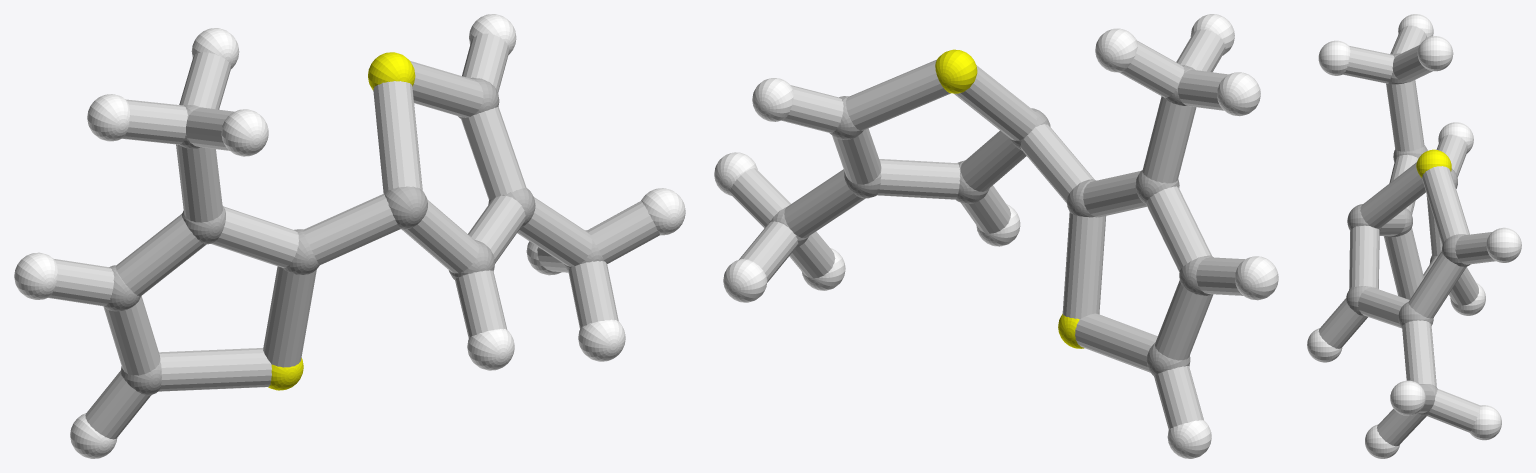
The model's file is Methylthiophene_Phi_60_Theta_330_Methylthiophene.glb.
The picture shows the model from 3 angles, left to right: view 1: azimuth 30°, elevation 25°; view 2: azimuth 150°, elevation 25°; view 3: azimuth 270°, elevation 25°; orthographic projection. The views are drawn at different scales.
Visible parts, largest first — view 1: grp7965, grp3621, grp1, grp7241; view 2: grp7965, grp3621, grp1, grp7241; view 3: grp7965, grp3621, grp1, grp7241.
Boxes of the visible parts, bbox=[...] form: grp7965: bbox=[48, 33, 659, 439]; grp3621: bbox=[14, 14, 685, 458]; grp1: bbox=[104, 77, 604, 395]; grp7241: bbox=[268, 52, 415, 390]; grp7965: bbox=[730, 29, 1244, 429]; grp3621: bbox=[714, 14, 1278, 458]; grp1: bbox=[769, 65, 1213, 375]; grp7241: bbox=[935, 49, 1084, 348]; grp7965: bbox=[1318, 25, 1495, 446]; grp3621: bbox=[1307, 14, 1521, 458]; grp1: bbox=[1346, 53, 1470, 416]; grp7241: bbox=[1416, 149, 1451, 178].
Bounding box in the file's own units: 9.22 × 5.82 × 3.62.
